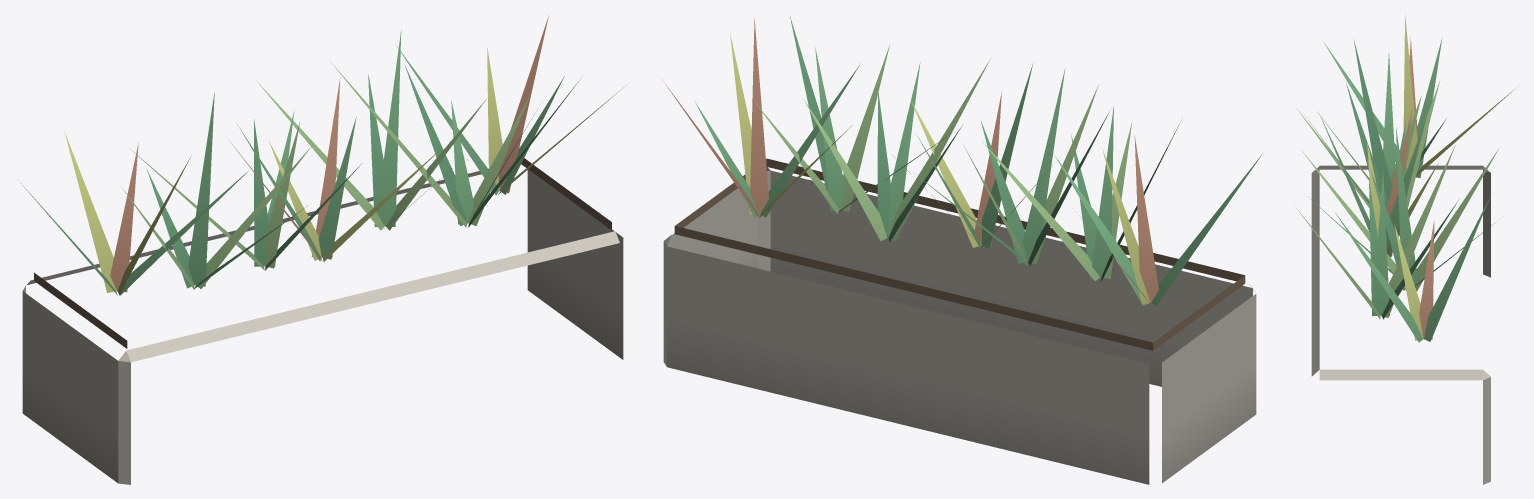
The model's file is planter_trough.glb.
3 renders of one model, left to right at view 1: azimuth 30°, elevation 25°; view 2: azimuth 150°, elevation 25°; view 3: azimuth 270°, elevation 25°, orthographic. The views are drawn at different scales.
Visible parts, largest first — view 1: planter_trough; view 2: planter_trough; view 3: planter_trough.
Part boxes in pixels (bbox=[...]): planter_trough: bbox=[17, 15, 628, 484]; planter_trough: bbox=[663, 15, 1262, 484]; planter_trough: bbox=[1295, 14, 1516, 484].
Size of the model in its own units: 2.78 by 1.46 by 1.14.
